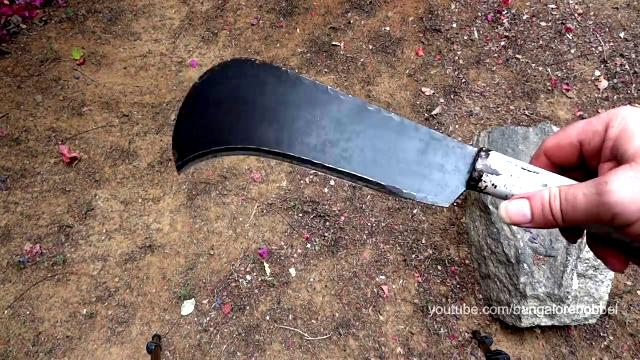long knife: (166, 52, 640, 264)
